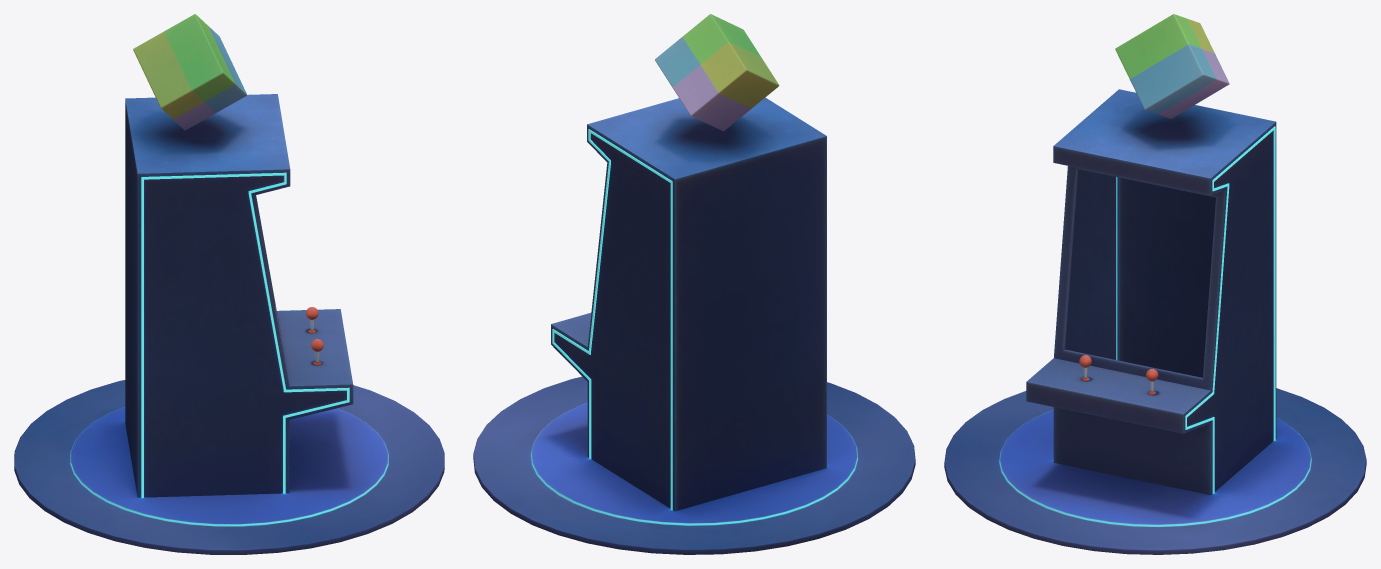
The model's file is Game Station.glb.
3 renders of one model, left to right at view 1: azimuth 30°, elevation 25°; view 2: azimuth 150°, elevation 25°; view 3: azimuth 270°, elevation 25°, orthographic. The views are drawn at different scales.
Visible parts, largest first — view 1: Game Station_PROCESSED.001, Rubik_PROCESSED.001; view 2: Game Station_PROCESSED.001, Rubik_PROCESSED.001; view 3: Game Station_PROCESSED.001, Rubik_PROCESSED.001.
Boxes of the visible parts, box(x1,y1,x2,y2) form: Game Station_PROCESSED.001: box(14, 94, 444, 554); Rubik_PROCESSED.001: box(133, 14, 246, 130); Game Station_PROCESSED.001: box(473, 97, 915, 554); Rubik_PROCESSED.001: box(655, 14, 779, 131); Game Station_PROCESSED.001: box(944, 89, 1366, 554); Rubik_PROCESSED.001: box(1115, 14, 1229, 118).
Size of the model in its own units: 4.1 by 4.71 by 4.1.
1 material, 1 textured.
